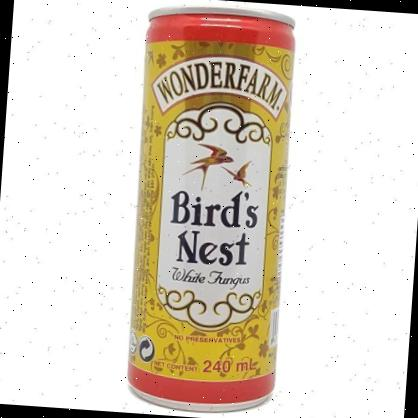can: (118, 0, 302, 418)
